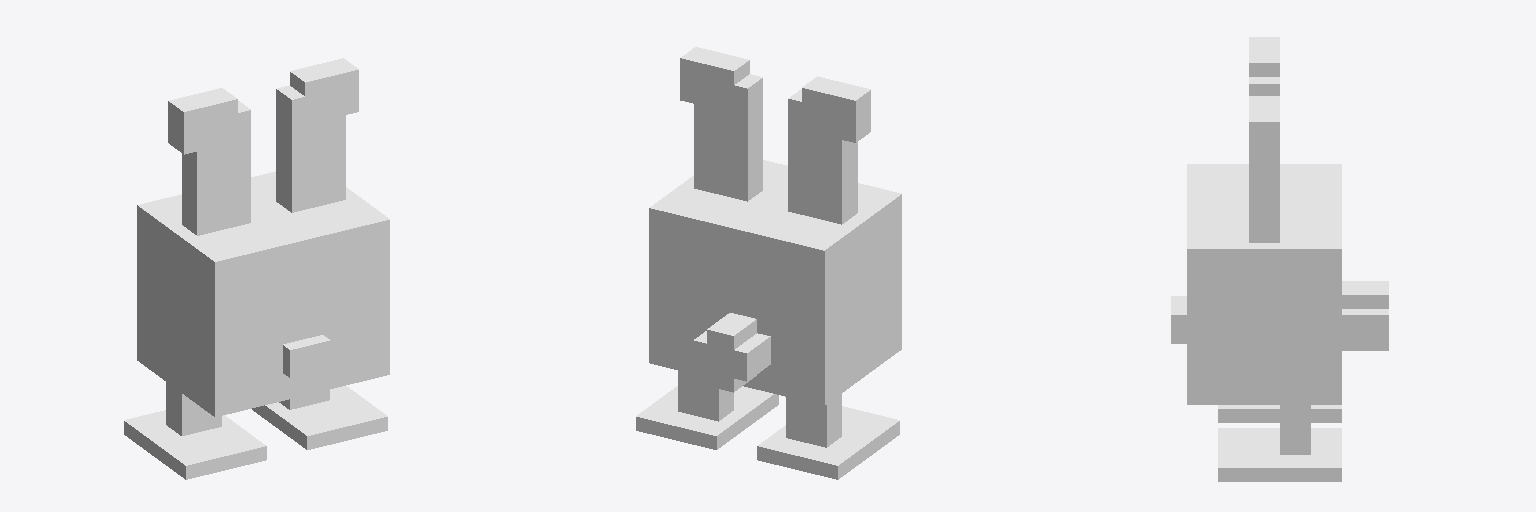
Rendered from Bolitav1-1.obj.
3 renders of one model, left to right at view 1: azimuth 30°, elevation 25°; view 2: azimuth 150°, elevation 25°; view 3: azimuth 270°, elevation 25°, orthographic.
Parts seen in each view (by area): view 1: object 1; view 2: object 1; view 3: object 1.
Boxes of the visible parts, box(x1,y1,x2,y2) form: object 1: box(124, 58, 389, 479); object 1: box(636, 47, 901, 479); object 1: box(1171, 37, 1388, 481).
Bounding box in the file's own units: 1.5 × 2.5 × 1.4.